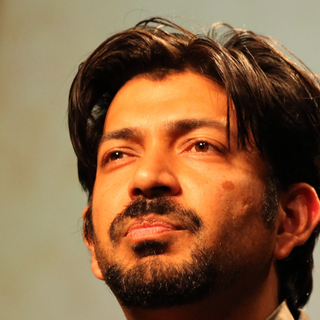eye: (183, 135, 227, 159), (100, 143, 138, 168)
